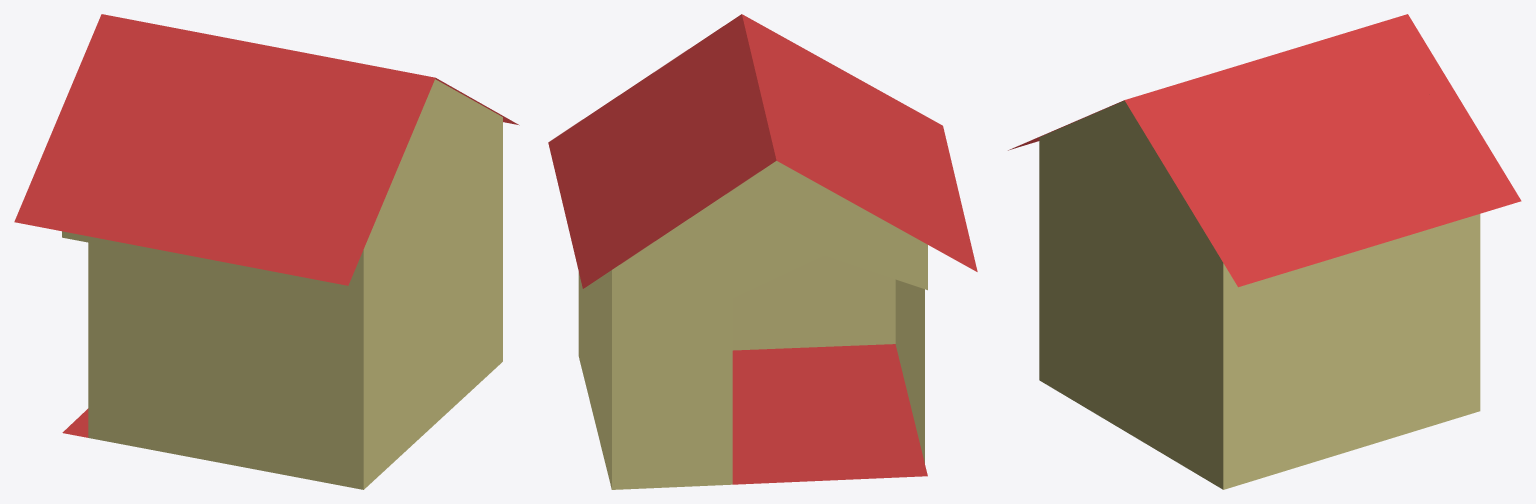
3 renders of one model, left to right at view 1: azimuth 30°, elevation 25°; view 2: azimuth 150°, elevation 25°; view 3: azimuth 270°, elevation 25°, orthographic. The views are drawn at different scales.
Bounding box in the file's own units: 14.91 × 14.61 × 10.46.
